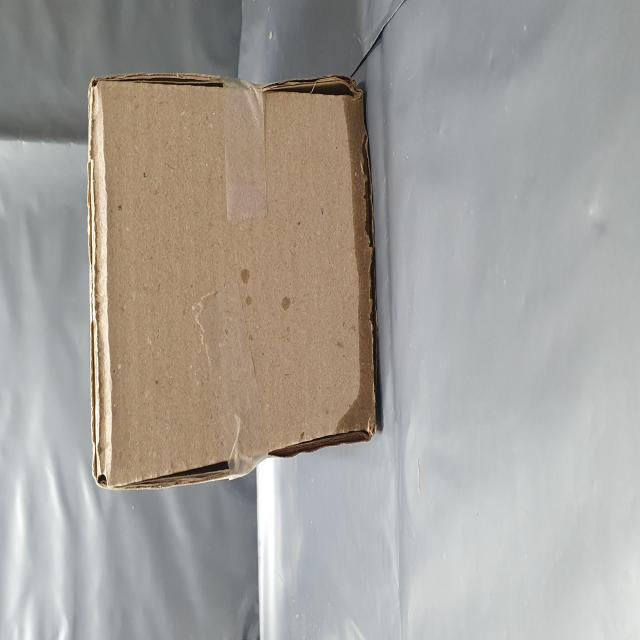wet: (104, 564, 312, 640)
